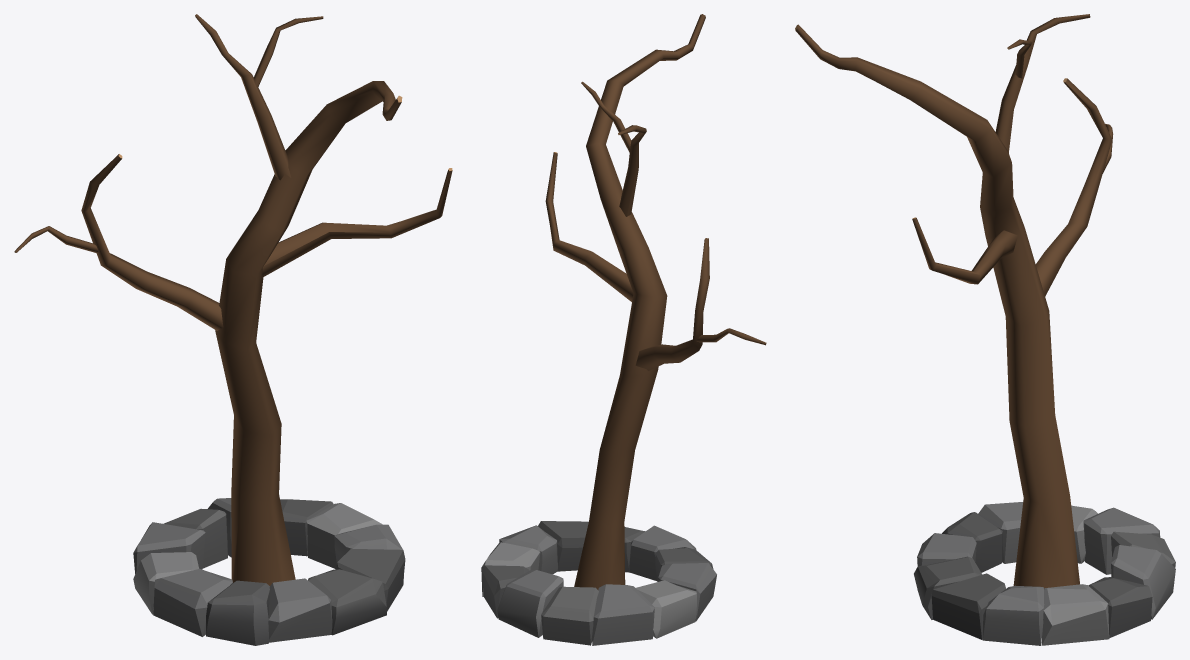
File: Lamp_Road_F.fbx
3 renders of one model, left to right at view 1: azimuth 30°, elevation 25°; view 2: azimuth 150°, elevation 25°; view 3: azimuth 270°, elevation 25°, orthographic. The views are drawn at different scales.
Visible parts, largest first — view 1: Lamp_Road_F; view 2: Lamp_Road_F; view 3: Lamp_Road_F.
Part boxes in pixels (bbox=[...]): Lamp_Road_F: bbox=[14, 14, 452, 645]; Lamp_Road_F: bbox=[481, 14, 766, 645]; Lamp_Road_F: bbox=[795, 14, 1175, 645].
Bounding box in the file's own units: 241 × 389 × 236.
